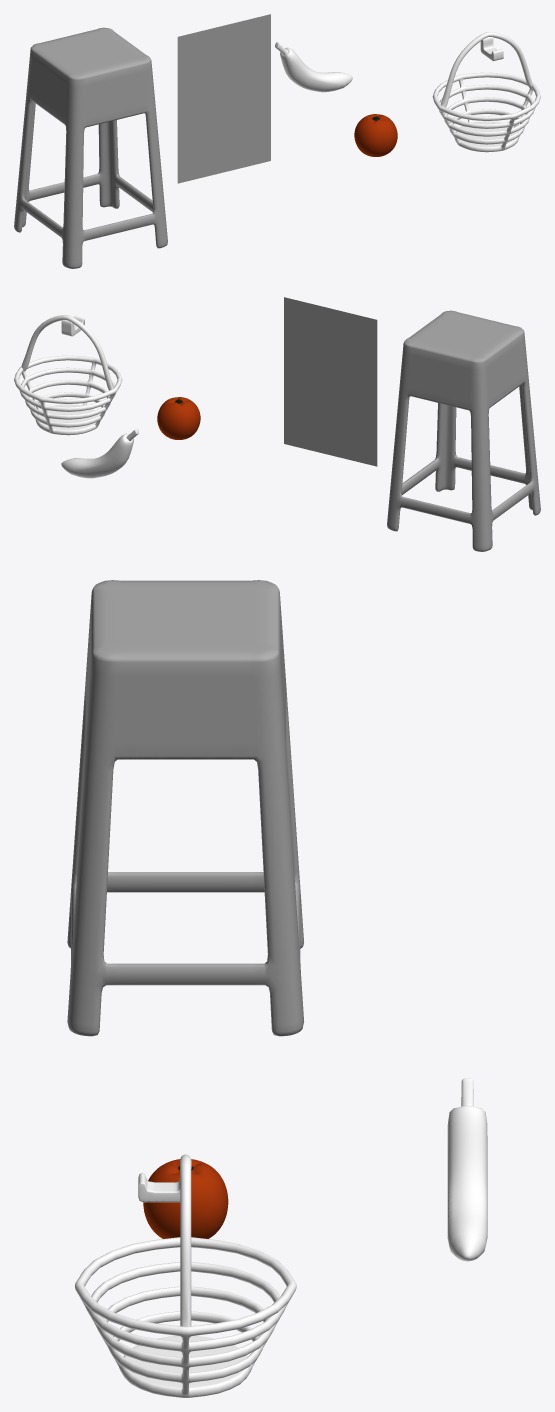
The model's file is FruitsPaperStool.fbx.
The picture shows the model from 3 angles, top to bottom: view 1: azimuth 30°, elevation 25°; view 2: azimuth 150°, elevation 25°; view 3: azimuth 270°, elevation 25°; orthographic projection. The views are drawn at different scales.
Visible parts, largest first — view 1: stool, paper_sheet, pCube2, banana, orange; view 2: stool, paper_sheet, pCube2, banana, orange; view 3: stool, pCube2, banana, orange.
Boxes of the visible parts, x1,y1,x2,y2 form: stool: [14, 27, 167, 268]; paper_sheet: [177, 14, 270, 183]; pCube2: [432, 32, 540, 152]; banana: [275, 42, 352, 92]; orange: [354, 114, 397, 156]; stool: [387, 310, 540, 551]; paper_sheet: [284, 297, 377, 466]; pCube2: [14, 315, 122, 435]; banana: [61, 428, 138, 478]; orange: [157, 397, 200, 439]; stool: [67, 580, 303, 1036]; pCube2: [75, 1154, 296, 1397]; banana: [447, 1078, 487, 1261]; orange: [143, 1159, 228, 1238].
Bounding box in the file's own units: 5.29 × 1.89 × 1.95.
